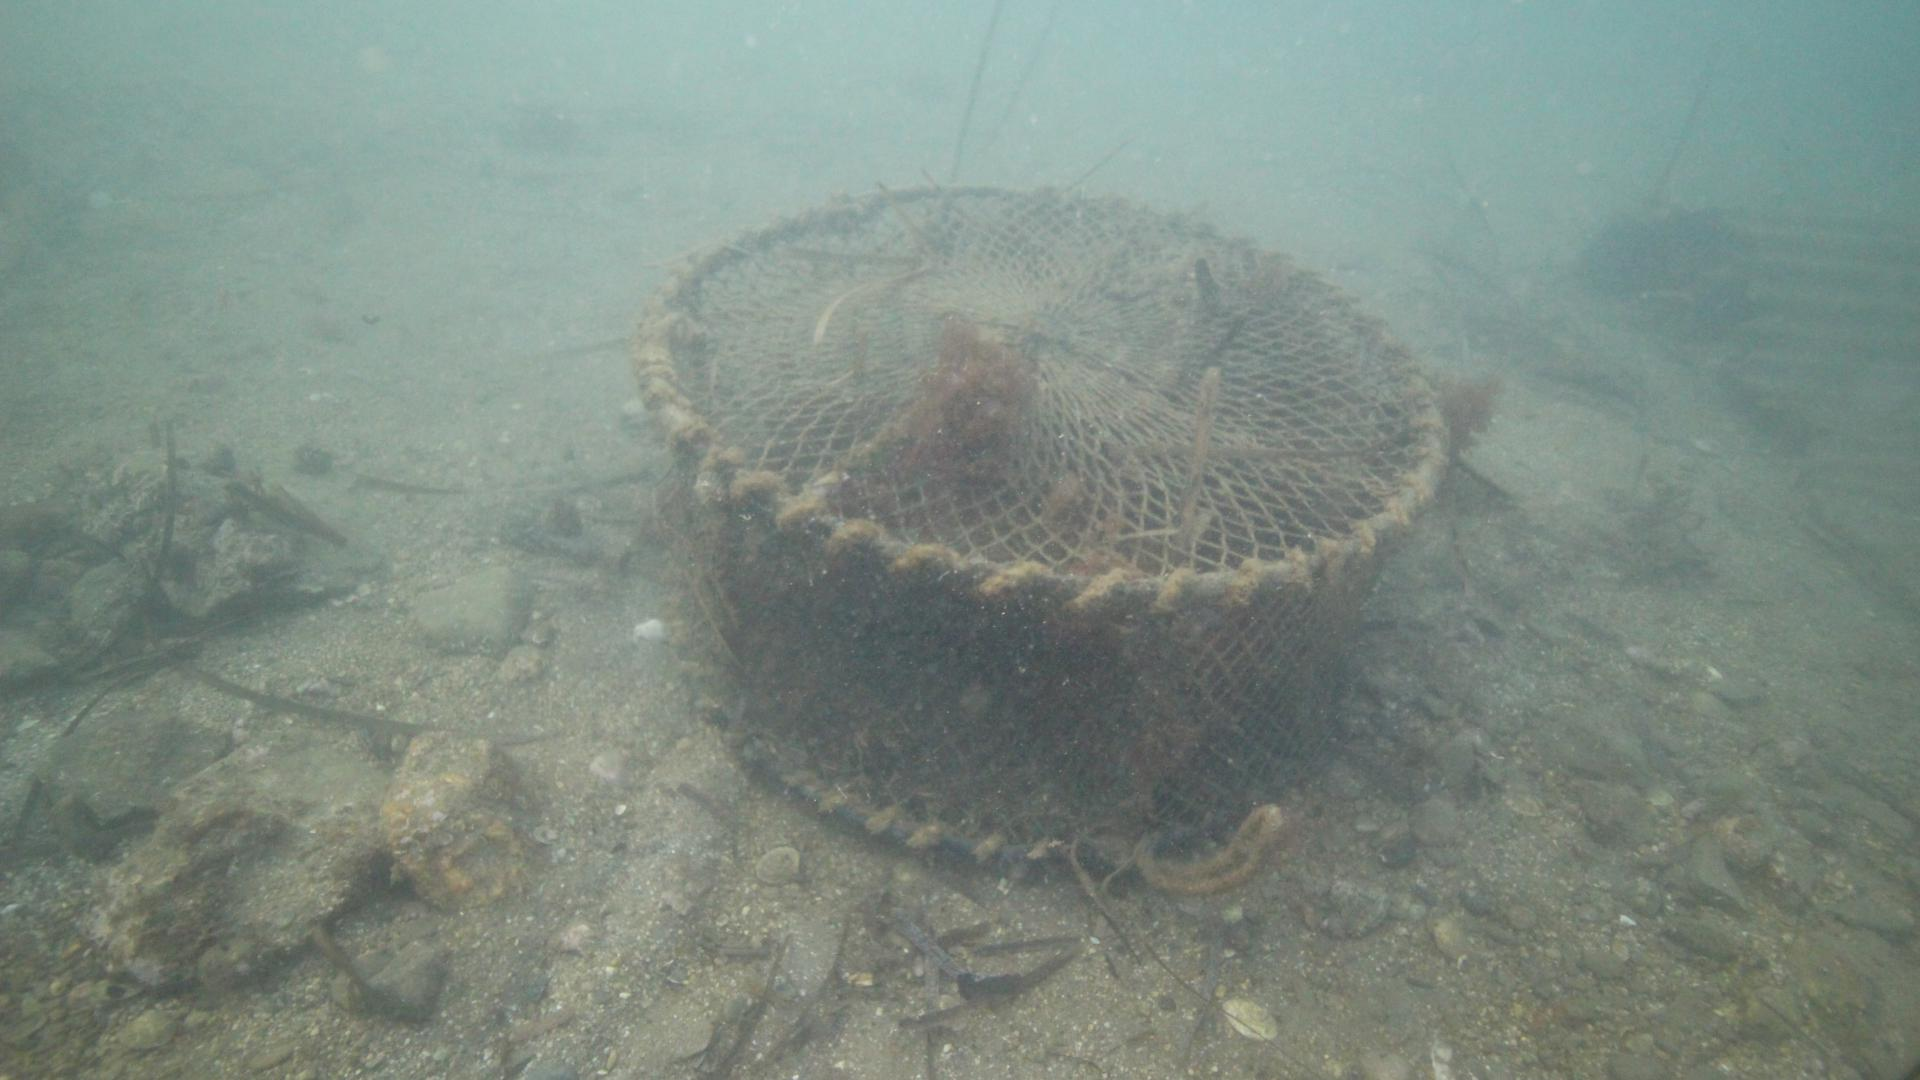circular fish trap: (628, 179, 1451, 858)
rope: (1131, 796, 1288, 901)
